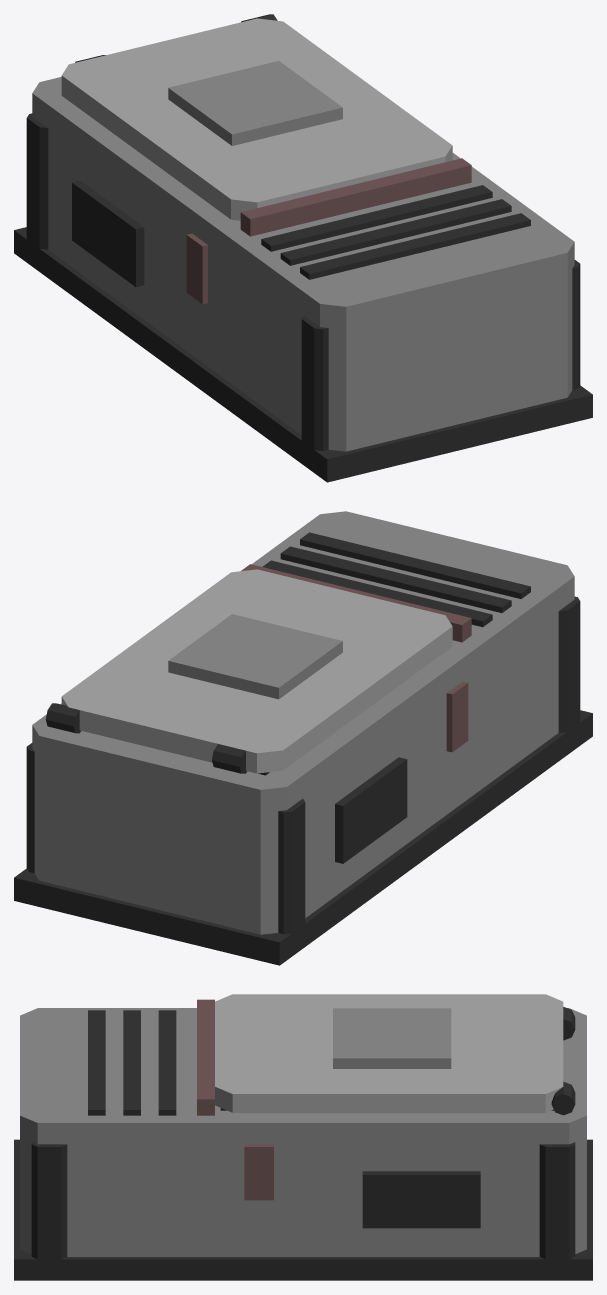
Rendered from ancient_hermetic_crate_closed.obj.
3 renders of one model, top to bottom at view 1: azimuth 30°, elevation 25°; view 2: azimuth 150°, elevation 25°; view 3: azimuth 270°, elevation 25°, orthographic. The views are drawn at different scales.
Visible parts, largest first — view 1: ancient_hermetic_crate_closed; view 2: ancient_hermetic_crate_closed; view 3: ancient_hermetic_crate_closed.
Boxes of the visible parts, box(x1,y1,x2,y2) form: ancient_hermetic_crate_closed: box(14, 14, 592, 482); ancient_hermetic_crate_closed: box(14, 511, 592, 965); ancient_hermetic_crate_closed: box(14, 994, 592, 1280).
Bounding box in the file's own units: 0.98 × 0.7 × 1.96.
